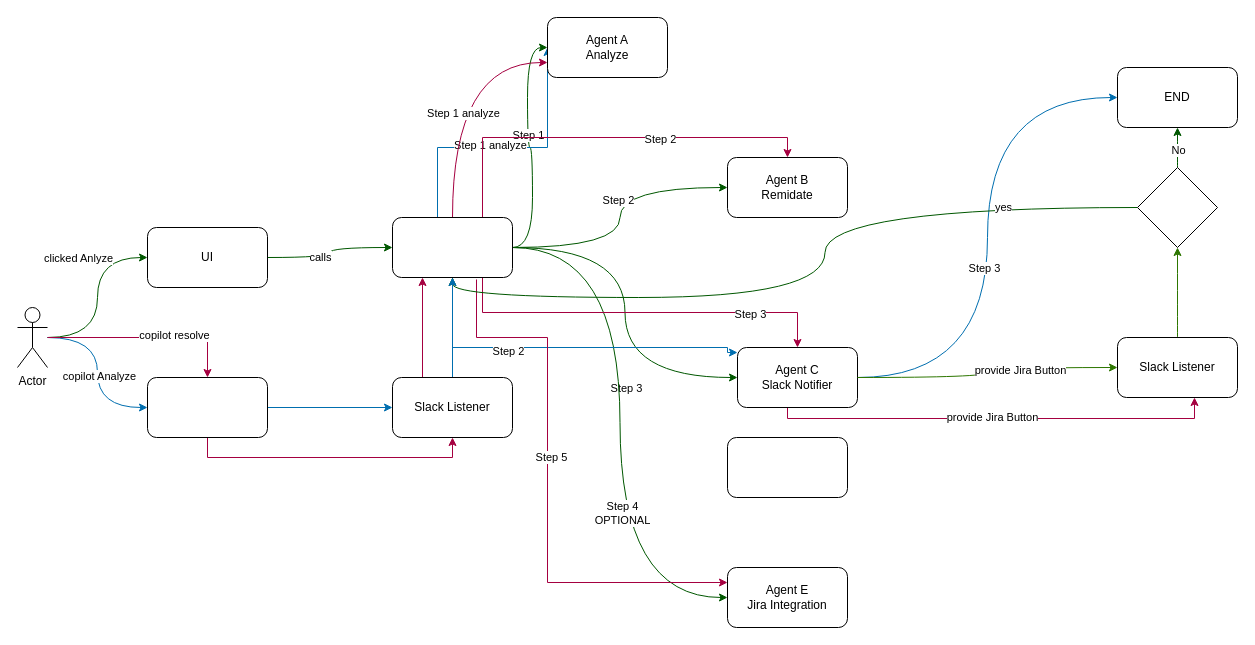
The diagram is 1255 pixels wide and 645 high, and some of its shapes have lost their labels. Each missing label, with the box of its shape:
Agent D Cookbook: (726, 436, 848, 498)
Do you want to Create Jira: (1136, 166, 1218, 248)
Orchestrator: (392, 216, 512, 278)
Slack: (146, 376, 268, 438)
